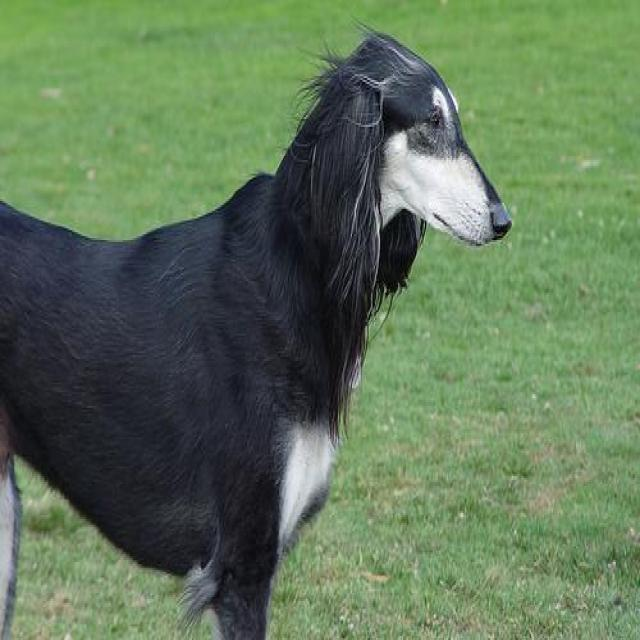saluki: (0, 29, 512, 638)
